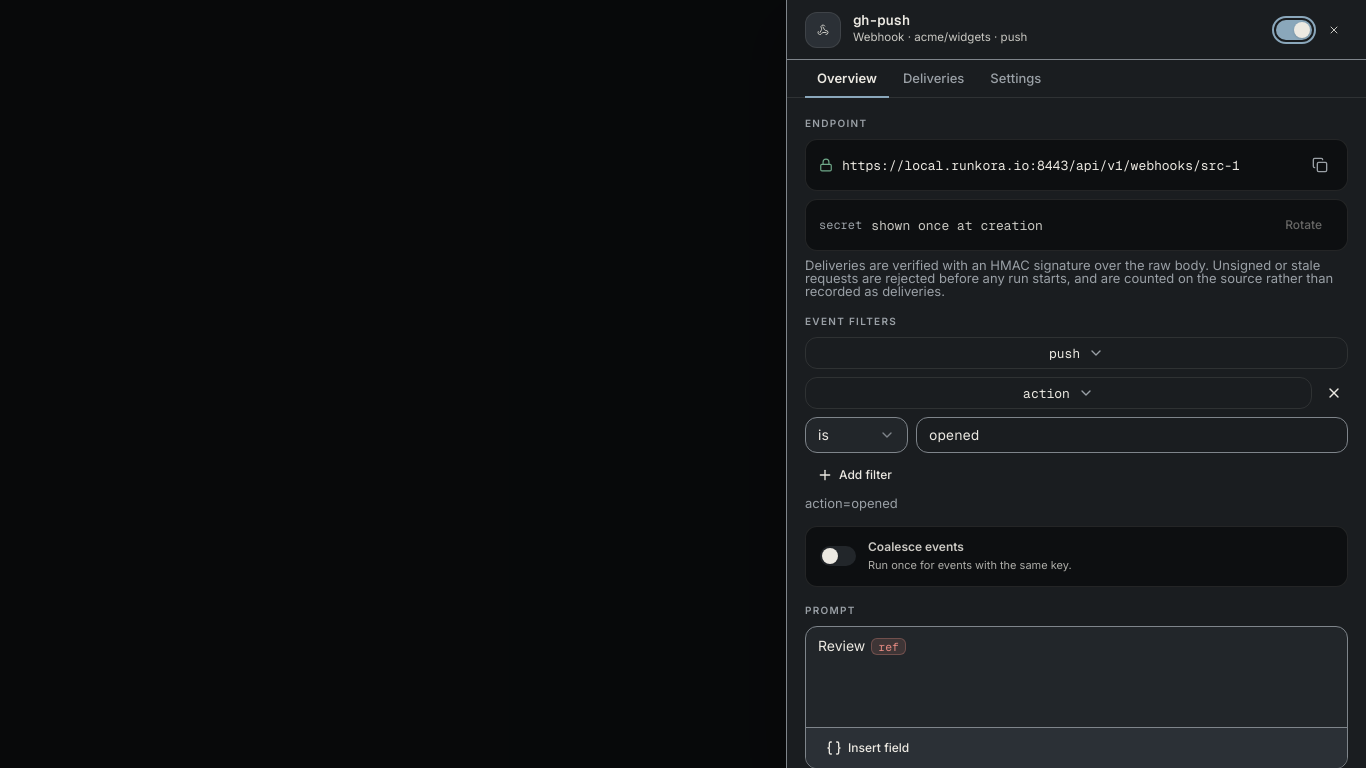
Test case: event and filter editing › keeps the edit and shows the reason when the save fails
Replace the text in the field named "Filter 1 values" with "closed" at (1132, 435), box [916,417,1348,453]
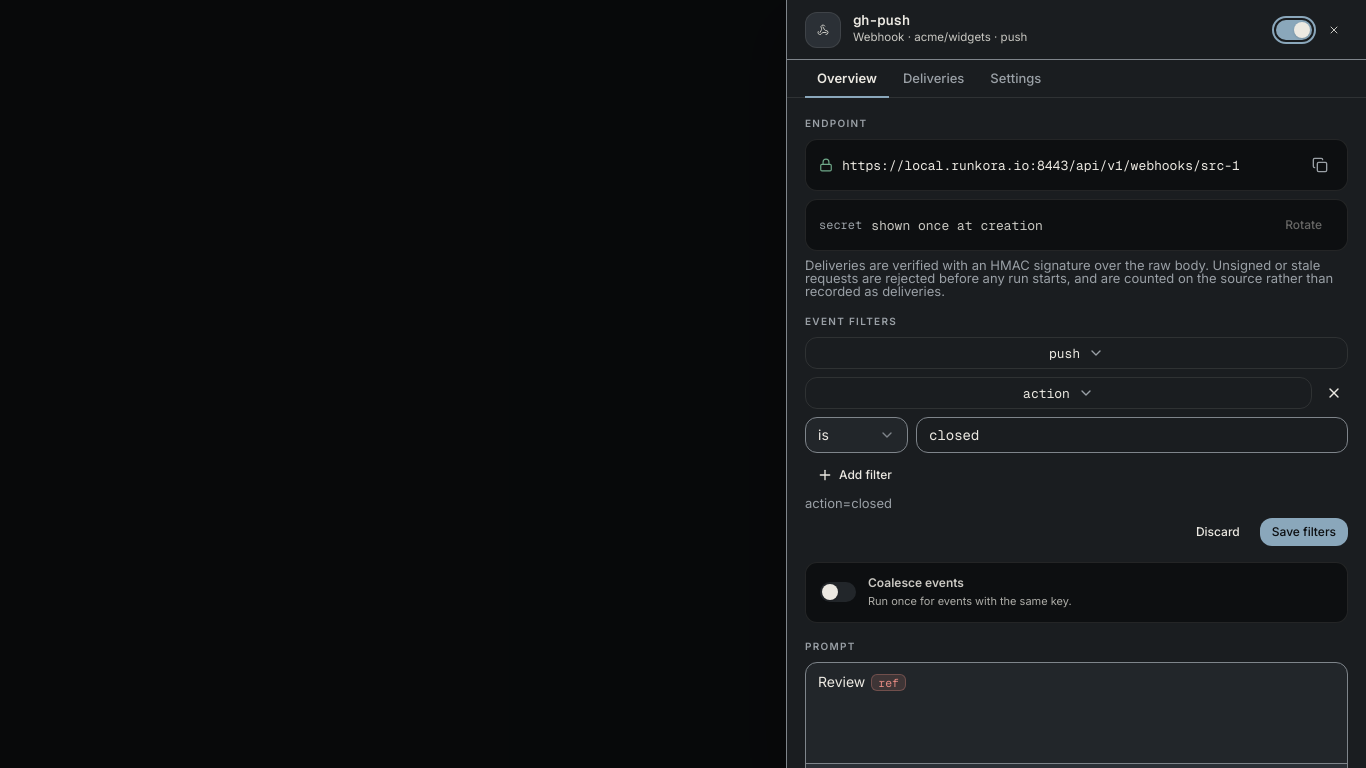
Click the button "Save filters" at (1304, 532), box [1260,518,1348,546]
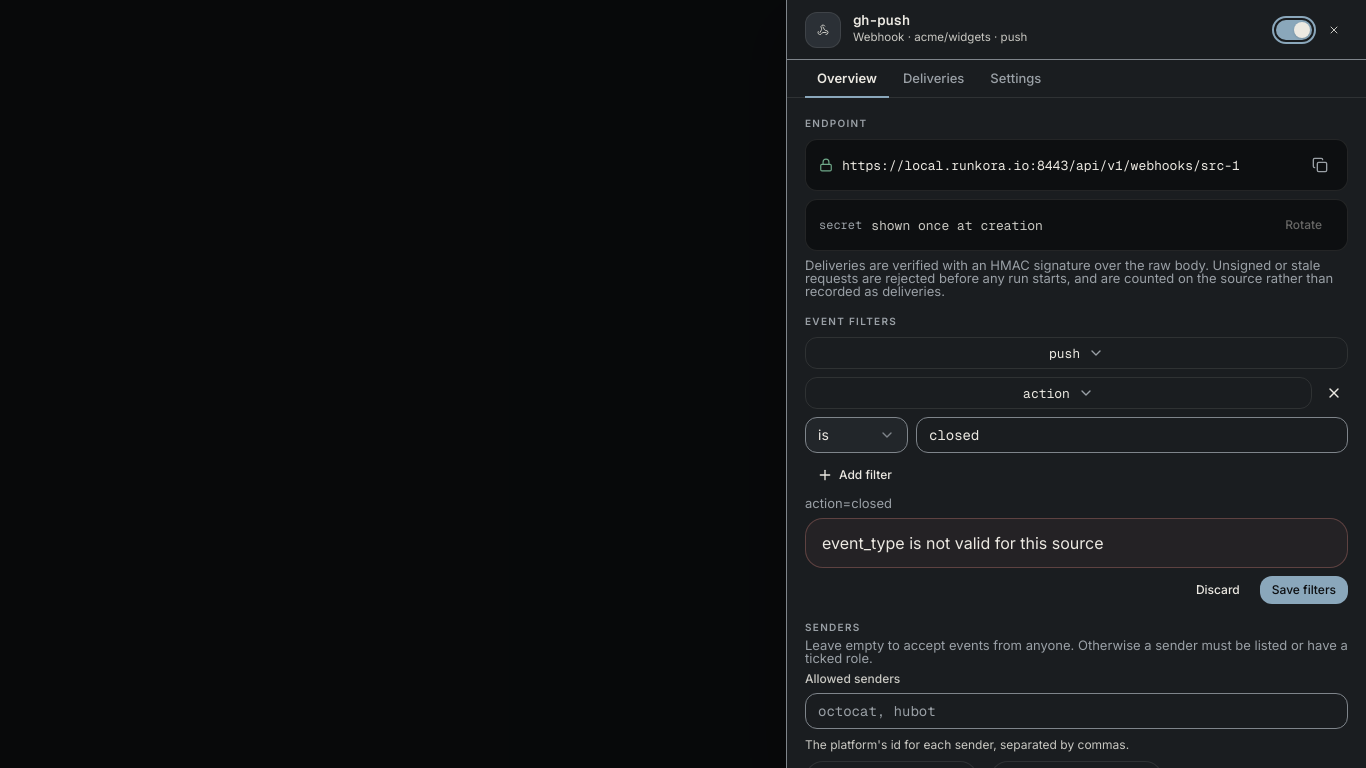
Expected: the text "event_type is not valid for this source" is shown, [805,518,1348,568]
